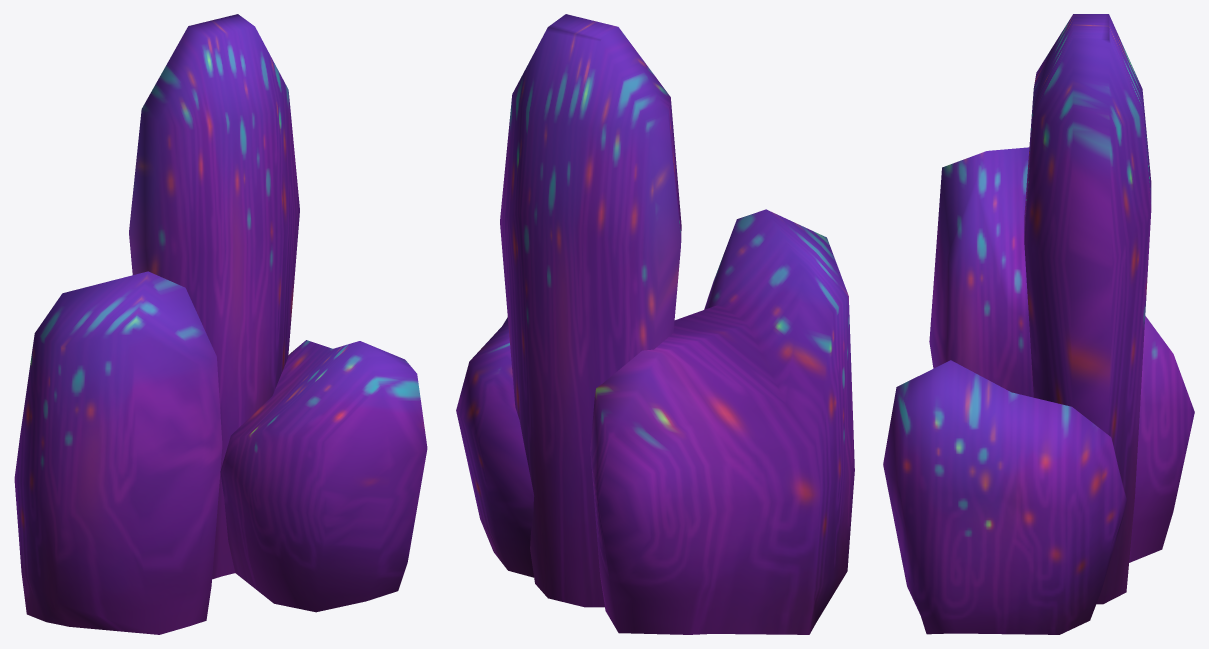
The model's file is DimRock_Purple_04.FBX.
3 views of the same model, side by side, from view 1: azimuth 30°, elevation 25°; view 2: azimuth 150°, elevation 25°; view 3: azimuth 270°, elevation 25° (orthographic). The views are drawn at different scales.
Visible parts, largest first — view 1: DimRock_Purple_04; view 2: DimRock_Purple_04; view 3: DimRock_Purple_04.
Boxes of the visible parts, x1,y1,x2,y2 form: DimRock_Purple_04: (14, 14, 427, 634); DimRock_Purple_04: (456, 14, 854, 634); DimRock_Purple_04: (883, 14, 1194, 634).
Bounding box in the file's own units: 53.25 × 78.16 × 39.62.
